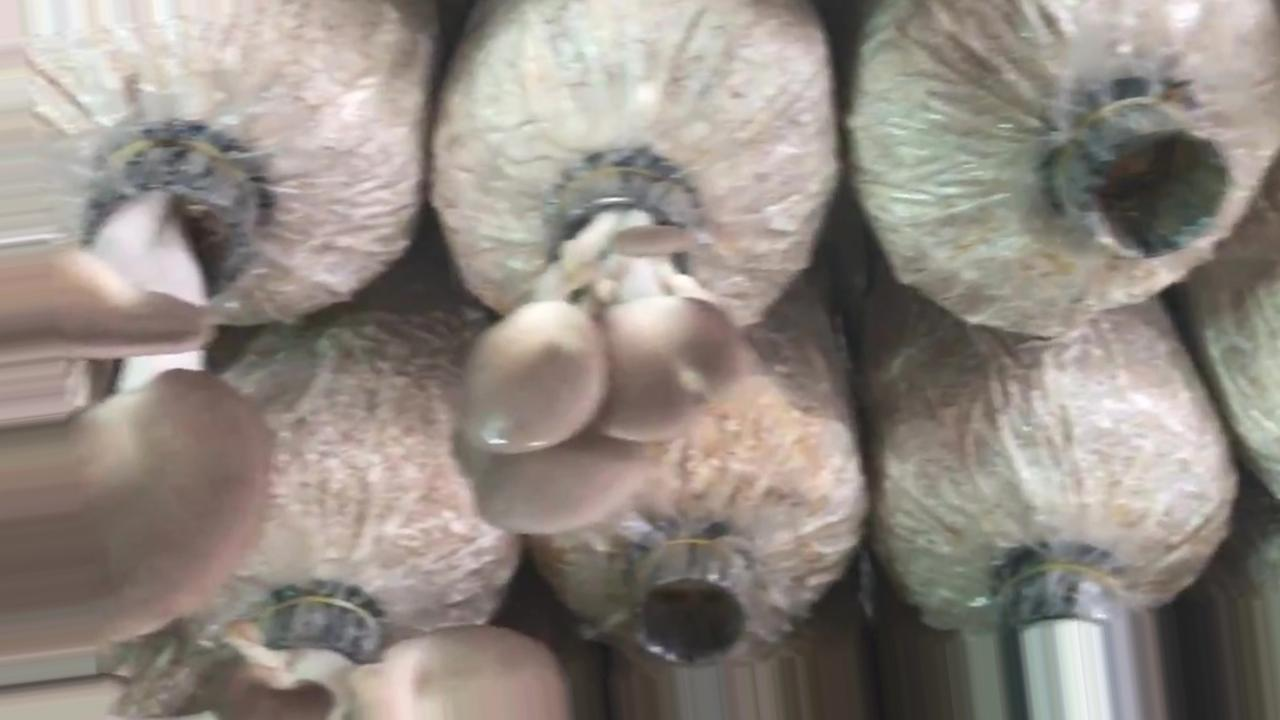nam: (1, 135, 275, 657), (450, 150, 743, 541), (2, 592, 578, 720)
